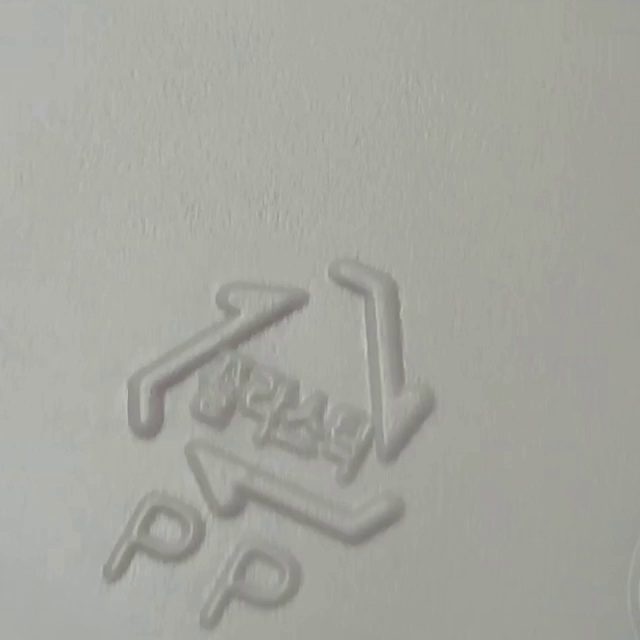Plastic: (128, 257, 433, 547)
